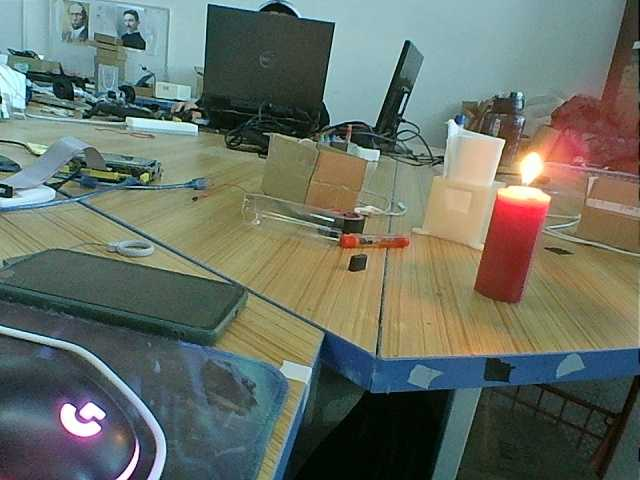candle: (479, 179, 555, 309)
fire: (505, 150, 561, 207)
